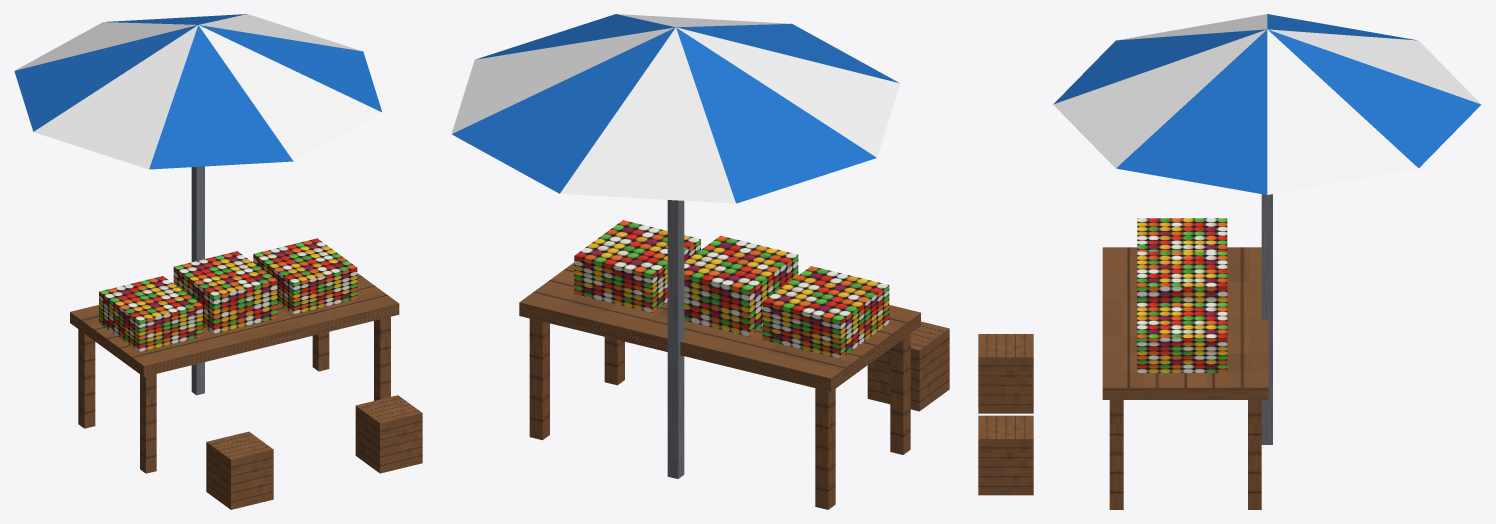
File: stall-red-far.glb
3 renders of one model, left to right at view 1: azimuth 30°, elevation 25°; view 2: azimuth 150°, elevation 25°; view 3: azimuth 270°, elevation 25°, orthographic. The views are drawn at different scales.
Visible parts, largest first — view 1: stall-red; view 2: stall-red; view 3: stall-red.
Boxes of the visible parts, left/top/right/bottom form: stall-red: left=14, top=14, right=422, bottom=509; stall-red: left=451, top=14, right=949, bottom=509; stall-red: left=978, top=14, right=1481, bottom=509.
Bounding box in the file's own units: 3.1 × 3.3 × 3.64.
Materials: 1 (1 with a texture image).
